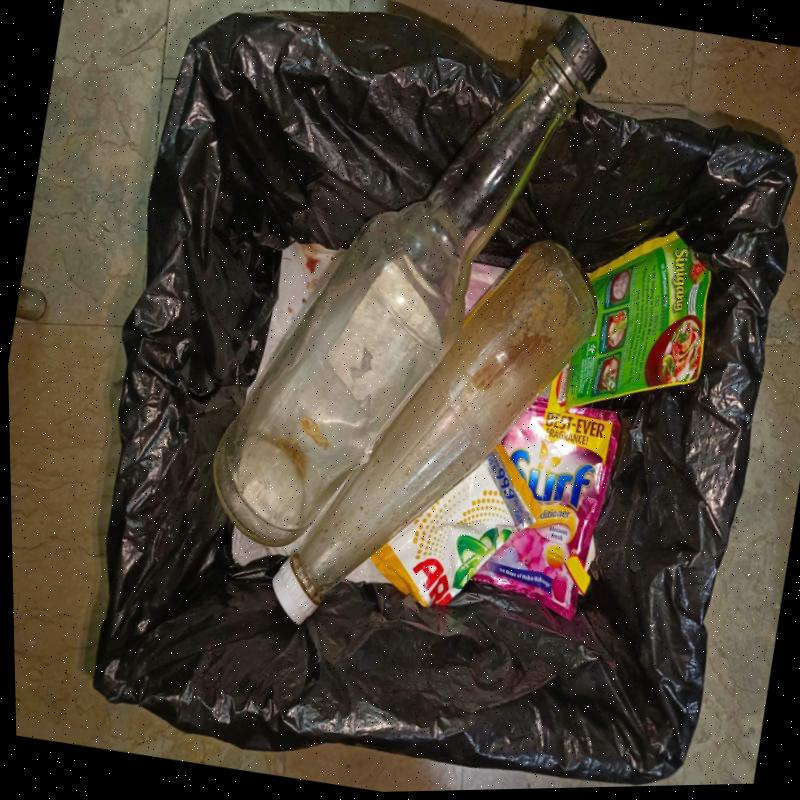glass bottle: (213, 14, 608, 547), (273, 239, 599, 623)
plastic sachet: (472, 395, 622, 620), (547, 230, 712, 412), (370, 441, 542, 607)
